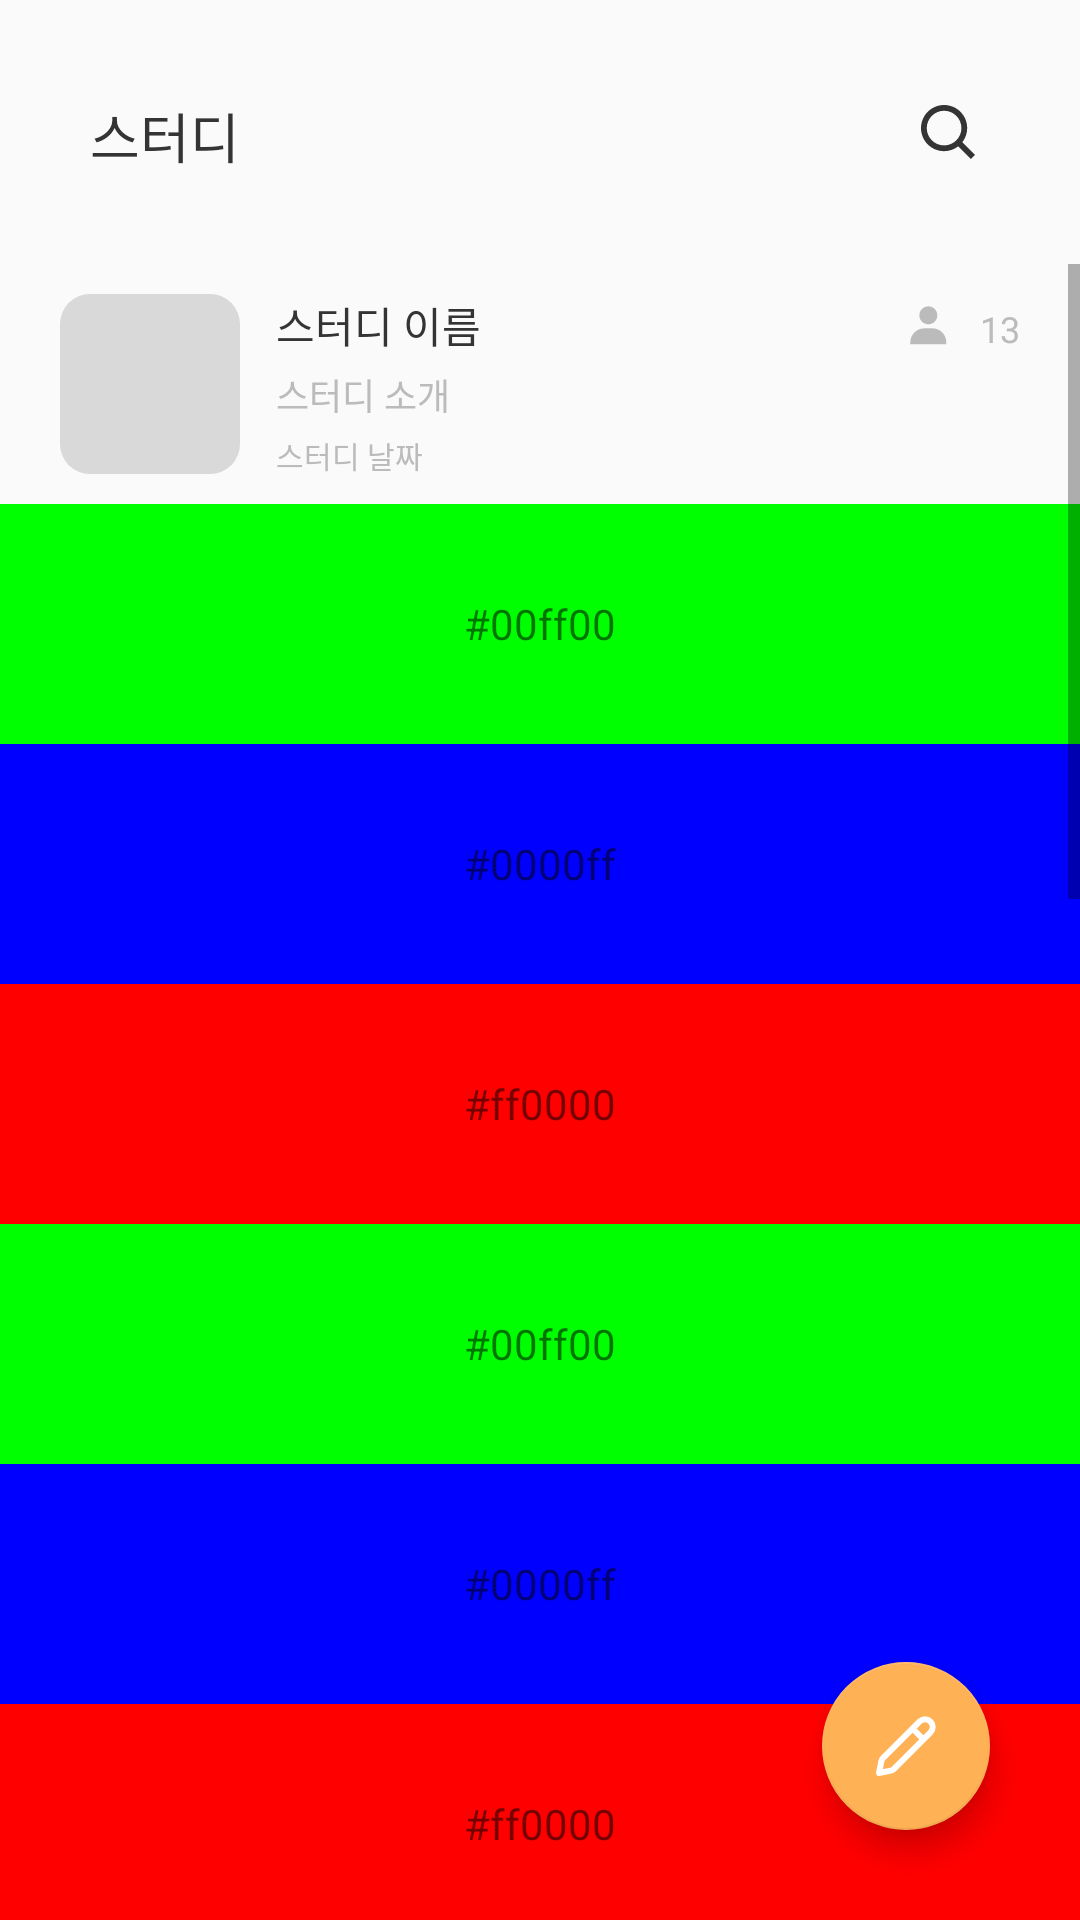

Icons on this 1080×1920 Android screen, each with the point to tap as (x,y):
pencil: (906,1746)
search: (948,132)
user: (928,325)
